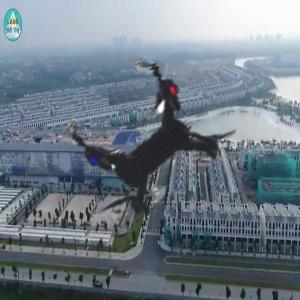drone: (2, 8, 292, 298)
